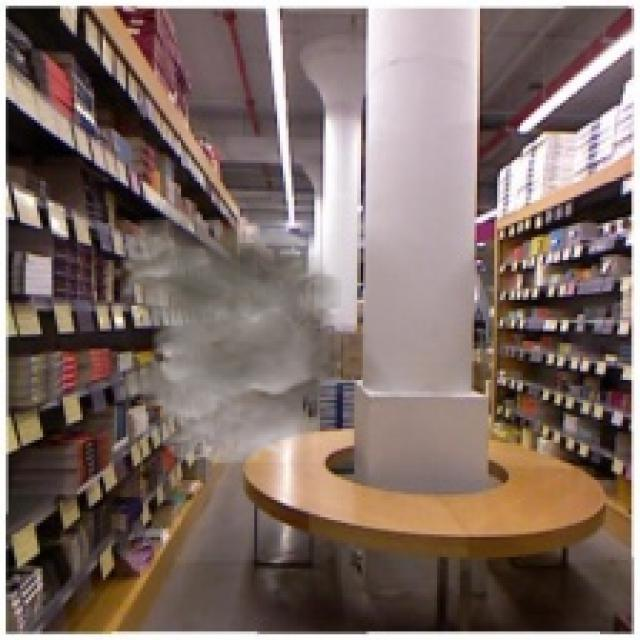Smoke: (109, 214, 378, 466)
